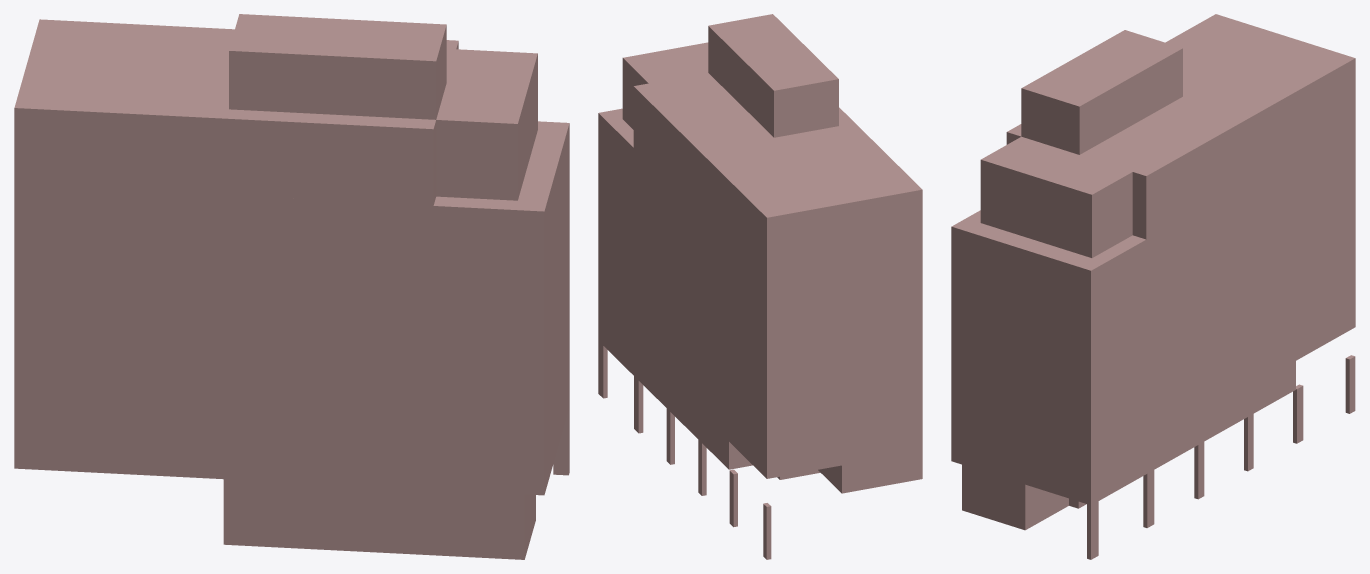
Rendered from 50-high-current-plan.glb.
3 views of the same model, side by side, from view 1: azimuth 30°, elevation 25°; view 2: azimuth 150°, elevation 25°; view 3: azimuth 270°, elevation 25° (orthographic). The views are drawn at different scales.
Visible parts, largest first — view 1: wf-50high-levels3-9, wf-50high-levels10-11-setbacks, wf-50high-mechanical-enclosure, wf-50high-ground-enclosure, wf-50high-level2, wf-50high-terrace-front-south, wf-50high-terrace-front-north, wf-50high-ground-column-0; view 2: wf-50high-levels3-9, wf-50high-levels10-11-setbacks, wf-50high-mechanical-enclosure, wf-50high-level2, wf-50high-terrace-front-south, wf-50high-ground-column-0, wf-50high-ground-column-1, wf-50high-ground-column-4, wf-50high-ground-column-5, wf-50high-ground-column-3, wf-50high-ground-column-2; view 3: wf-50high-levels3-9, wf-50high-levels10-11-setbacks, wf-50high-mechanical-enclosure, wf-50high-level2, wf-50high-ground-enclosure, wf-50high-terrace-front-south, wf-50high-ground-column-0, wf-50high-ground-column-1, wf-50high-ground-column-5, wf-50high-ground-column-4, wf-50high-ground-column-2, wf-50high-ground-column-3 (+1 smaller).
Part boxes in pixels (<box>): wf-50high-levels3-9: <box>14,121,569,460</box>; wf-50high-levels10-11-setbacks: <box>14,19,537,205</box>; wf-50high-mechanical-enclosure: <box>229,14,446,119</box>; wf-50high-ground-enclosure: <box>223,479,535,559</box>; wf-50high-level2: <box>14,372,569,495</box>; wf-50high-terrace-front-south: <box>526,121,568,173</box>; wf-50high-terrace-front-north: <box>433,184,551,212</box>; wf-50high-ground-column-0: <box>553,407,569,475</box>; wf-50high-levels3-9: <box>598,108,922,478</box>; wf-50high-levels10-11-setbacks: <box>622,42,922,279</box>; wf-50high-mechanical-enclosure: <box>708,14,838,137</box>; wf-50high-level2: <box>598,313,922,493</box>; wf-50high-terrace-front-south: <box>598,109,633,148</box>; wf-50high-ground-column-0: <box>598,341,607,398</box>; wf-50high-ground-column-1: <box>634,376,643,433</box>; wf-50high-ground-column-4: <box>729,469,737,527</box>; wf-50high-ground-column-5: <box>763,503,771,559</box>; wf-50high-ground-column-3: <box>698,440,706,495</box>; wf-50high-ground-column-2: <box>666,408,674,464</box>; wf-50high-levels3-9: <box>951,121,1355,476</box>; wf-50high-levels10-11-setbacks: <box>980,14,1355,257</box>; wf-50high-mechanical-enclosure: <box>1021,30,1182,154</box>; wf-50high-level2: <box>951,361,1295,505</box>; wf-50high-ground-enclosure: <box>962,464,1086,530</box>; wf-50high-terrace-front-south: <box>1011,235,1146,271</box>; wf-50high-ground-column-0: <box>1087,501,1098,559</box>; wf-50high-ground-column-1: <box>1143,470,1154,527</box>; wf-50high-ground-column-5: <box>1345,355,1355,413</box>; wf-50high-ground-column-4: <box>1293,384,1303,443</box>; wf-50high-ground-column-2: <box>1194,442,1204,499</box>; wf-50high-ground-column-3: <box>1244,414,1253,471</box>.
Bounding box in the file's own units: 42.21 × 40.8 × 37.26.
